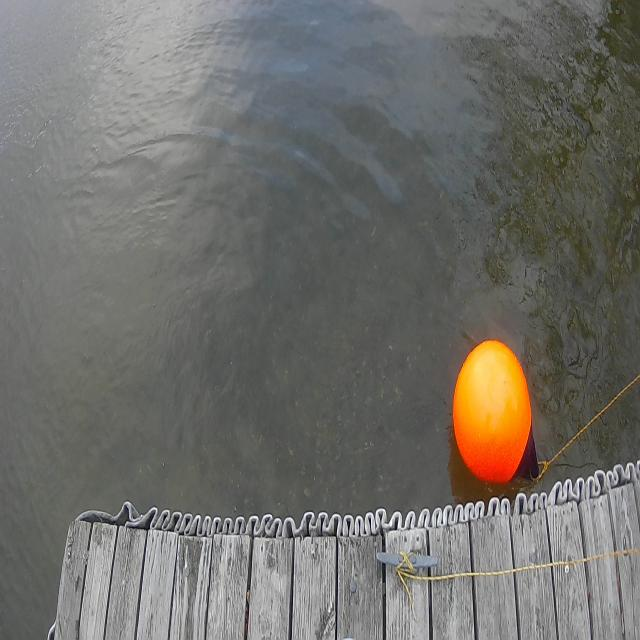Buoy: (448, 332, 546, 501)
